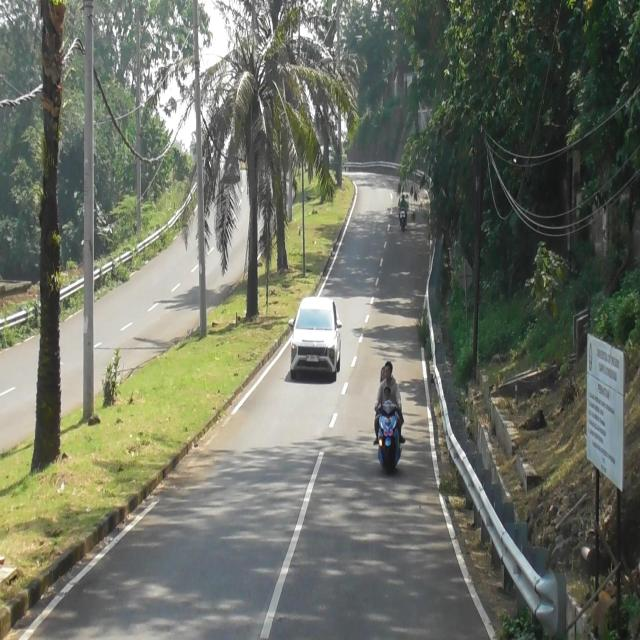motorcycle: (379, 400, 401, 466)
person: (375, 365, 403, 413), (382, 386, 392, 402), (380, 364, 386, 383)
rider_region: (373, 363, 406, 476)
